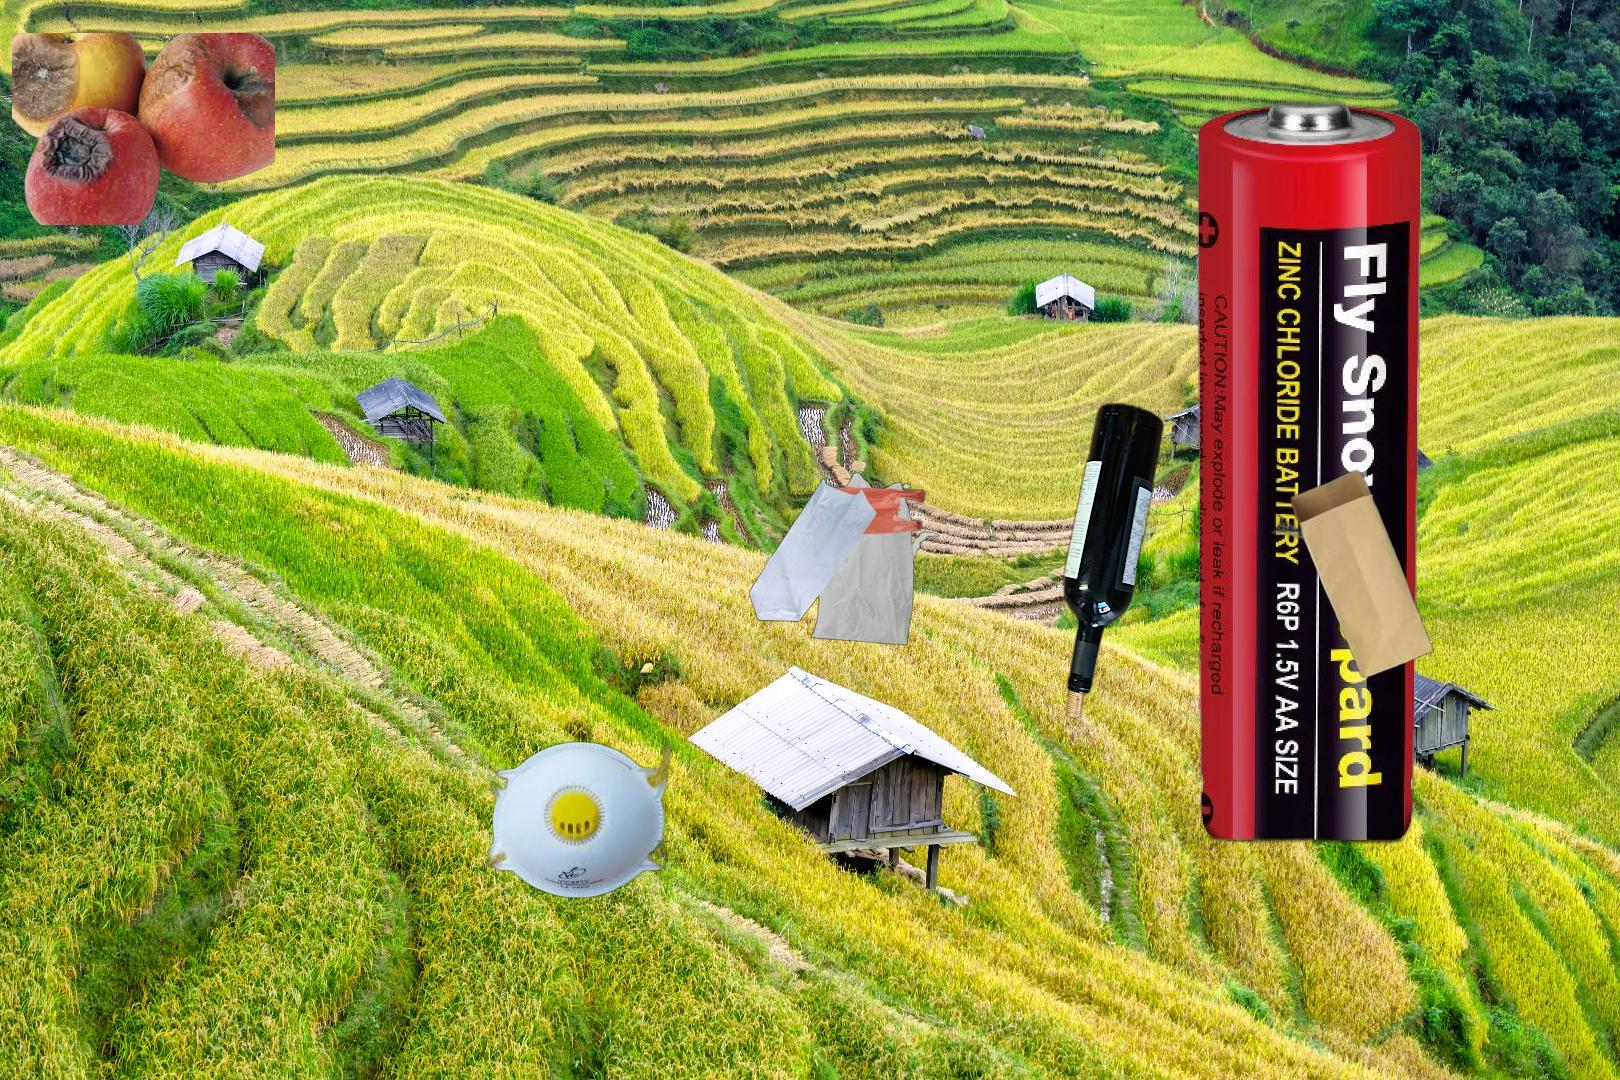battery: (1195, 92, 1426, 851)
biological: (12, 33, 275, 225)
glass: (1060, 398, 1168, 724)
paper-bag: (1239, 430, 1437, 680)
plastic-bag: (746, 471, 943, 648)
trash: (479, 724, 710, 918)
